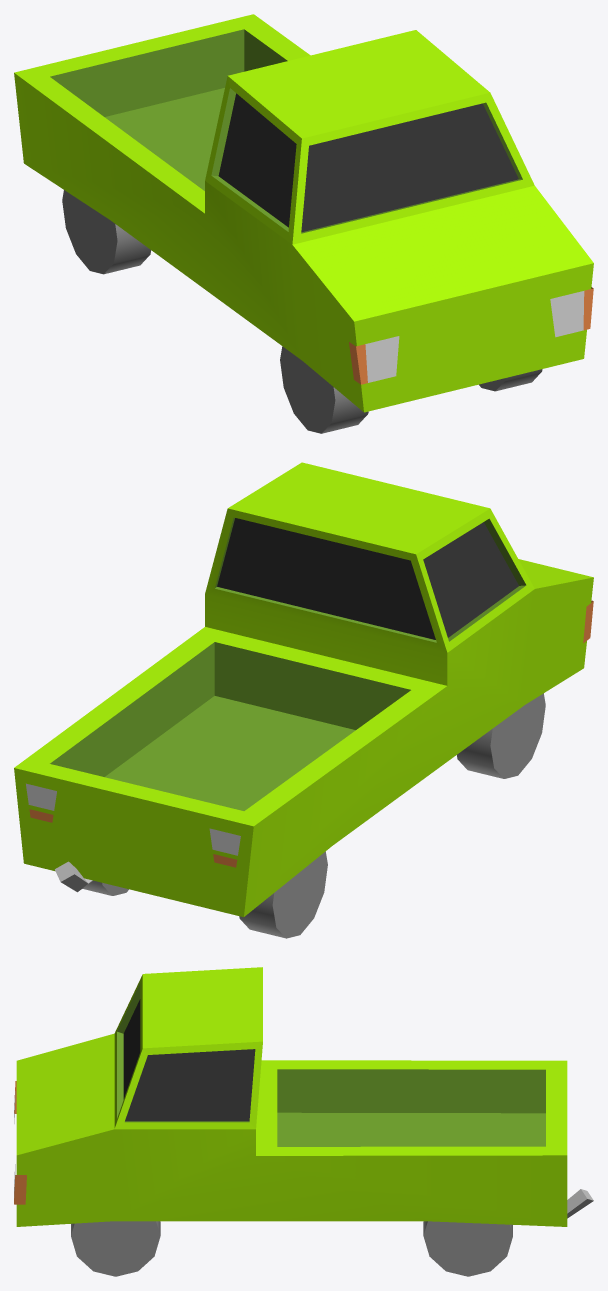
The model's file is pickup_07.fbx.
3 renders of one model, top to bottom at view 1: azimuth 30°, elevation 25°; view 2: azimuth 150°, elevation 25°; view 3: azimuth 270°, elevation 25°, orthographic. The views are drawn at different scales.
Parts seen in each view (by area): view 1: pickup_07; view 2: pickup_07; view 3: pickup_07.
Boxes of the visible parts, x1,y1,x2,y2 form: pickup_07: (14,14,593,433); pickup_07: (14,462,593,938); pickup_07: (14,967,593,1276).
Bounding box in the file's own units: 1.6 × 1.8 × 4.1.
